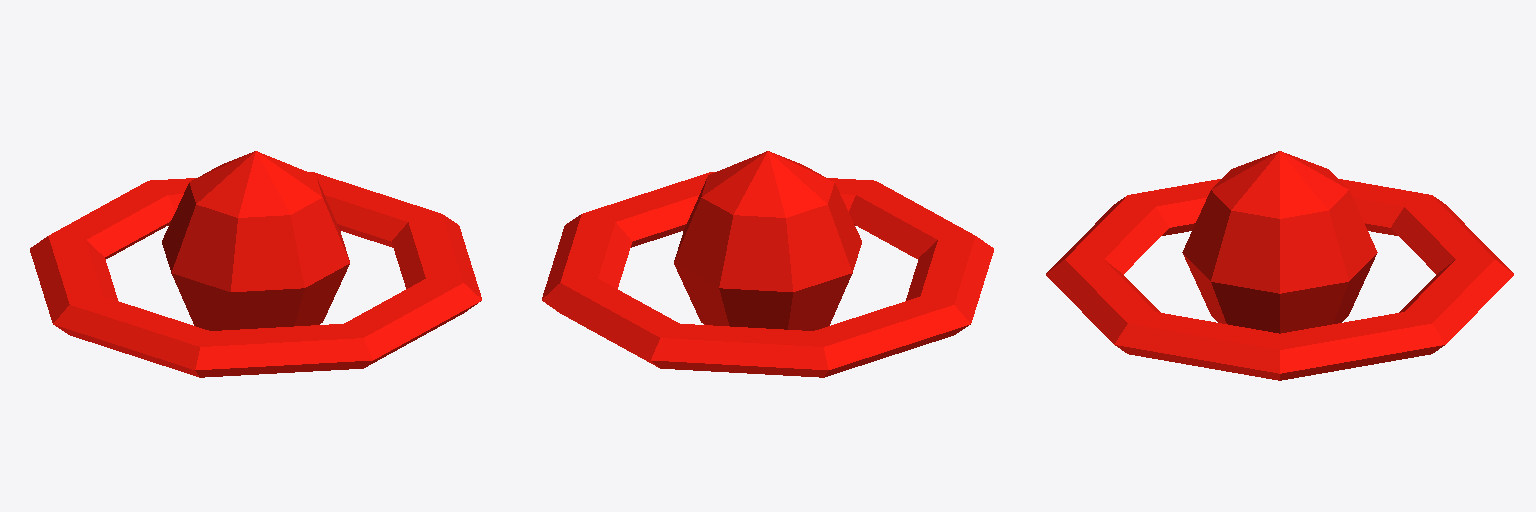
File: ecrystal.obj
The picture shows the model from 3 angles: view 1: azimuth 30°, elevation 25°; view 2: azimuth 150°, elevation 25°; view 3: azimuth 270°, elevation 25°; orthographic projection.
Parts seen in each view (by area): view 1: pSphere1 pTorus1, pSphere1; view 2: pSphere1 pTorus1, pSphere1; view 3: pSphere1 pTorus1, pSphere1.
Boxes of the visible parts, box(x1,y1,x2,y2) form: pSphere1 pTorus1: box(30, 172, 481, 377); pSphere1: box(162, 151, 349, 330); pSphere1 pTorus1: box(542, 172, 993, 377); pSphere1: box(674, 151, 861, 330); pSphere1 pTorus1: box(1046, 179, 1513, 380); pSphere1: box(1182, 151, 1377, 333).
Size of the model in its own units: 2.4 by 1.19 by 2.4.